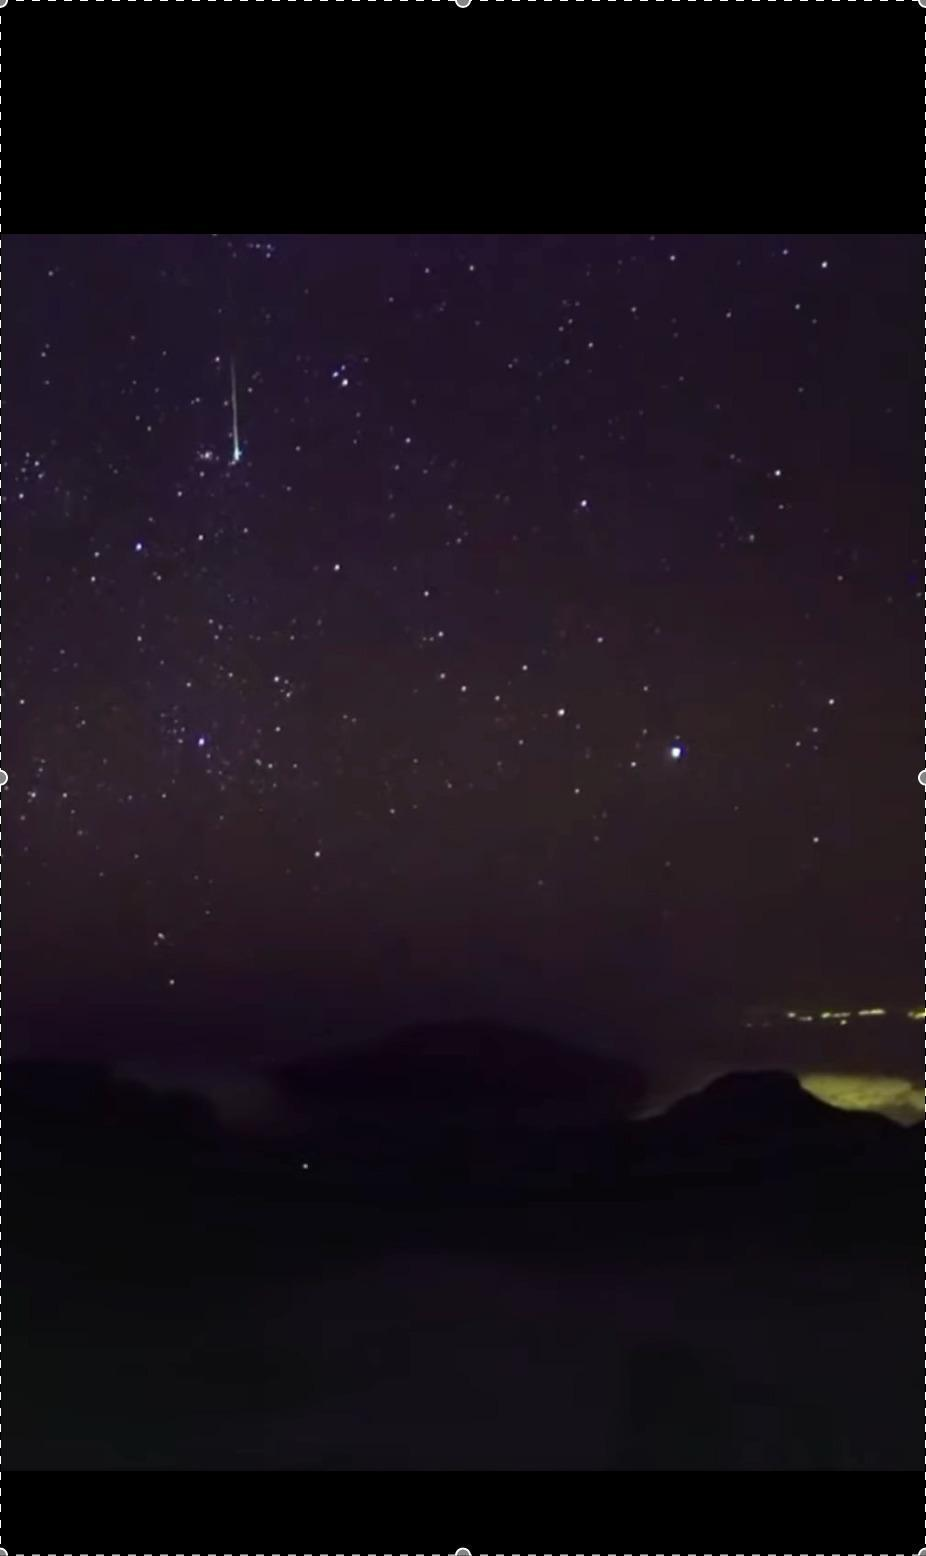meteorite: (211, 359, 259, 472)
